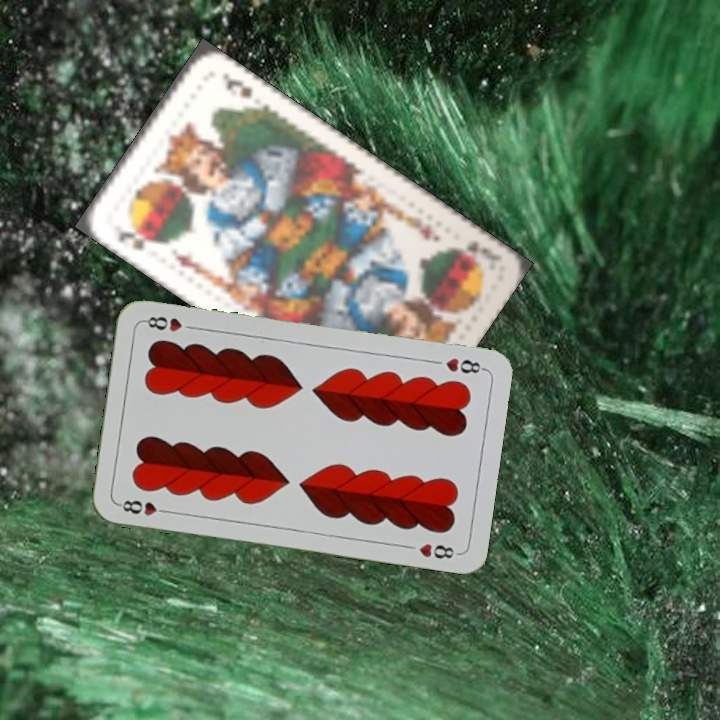H8: (115, 496, 174, 519), (442, 354, 487, 376)
SK: (110, 221, 159, 254), (448, 237, 489, 261)
